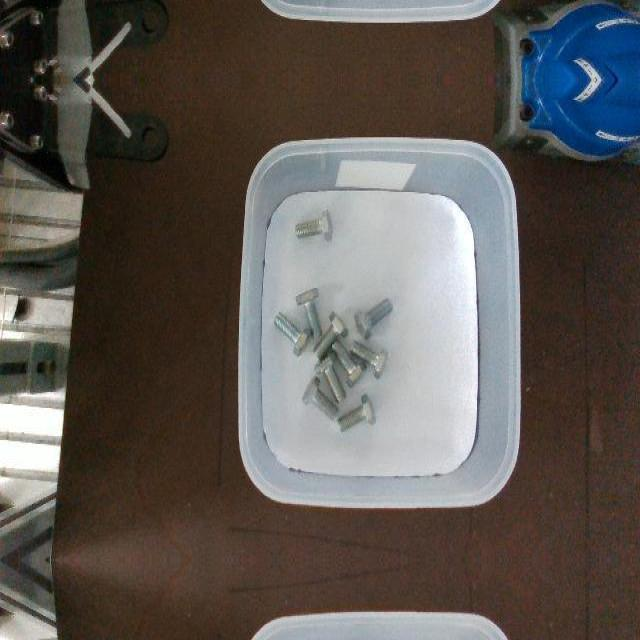screw: (272, 311, 312, 357), (315, 349, 346, 403), (302, 376, 339, 420), (354, 296, 392, 338), (296, 287, 323, 341), (350, 340, 388, 378), (294, 208, 333, 242)
